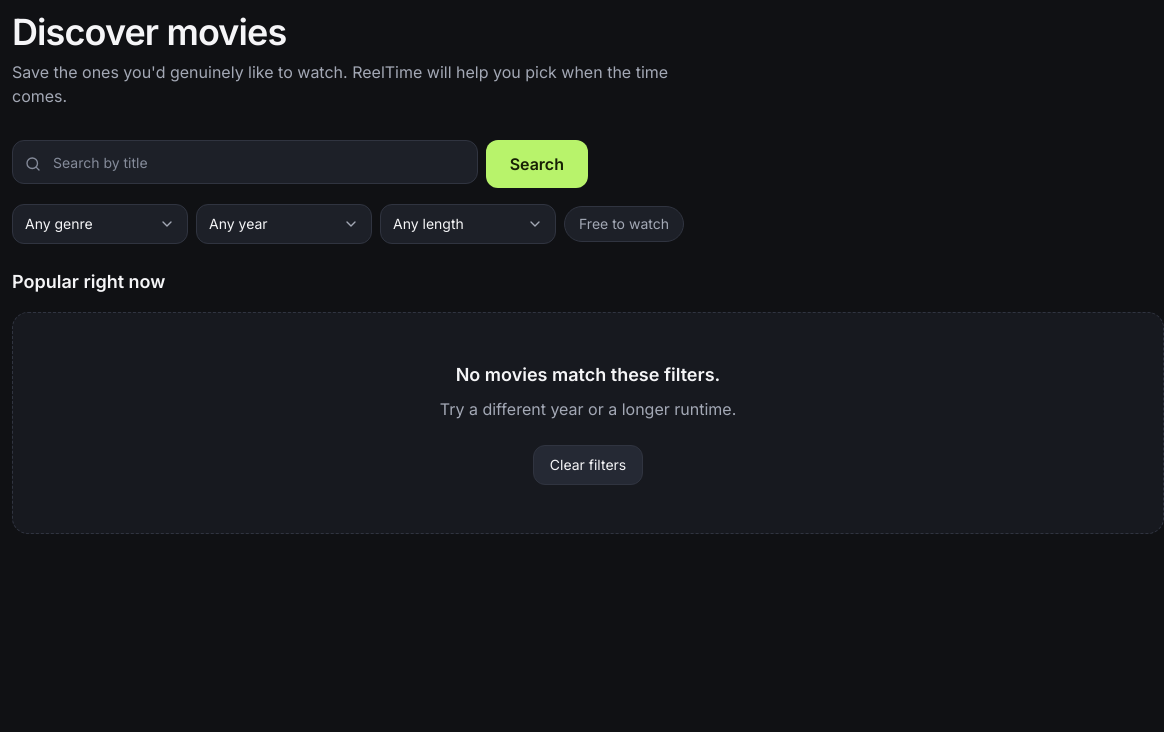
browses popular movies until a filter is chosen, then discovers with the filters
Select "Comedy" in the 1st dropdown named "Genre": point(100, 224) [12,204,188,244]
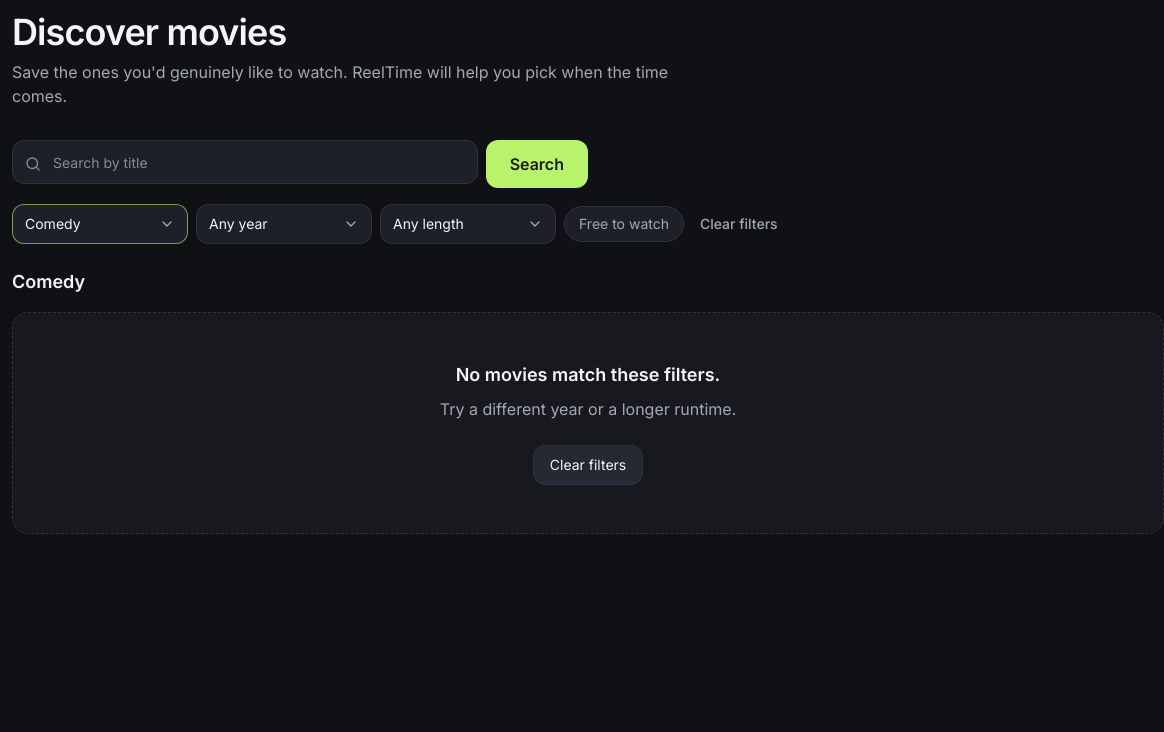
Select "Under 1h 30m" in the 3rd dropdown named "Maximum runtime": point(468, 224) [380,204,556,244]
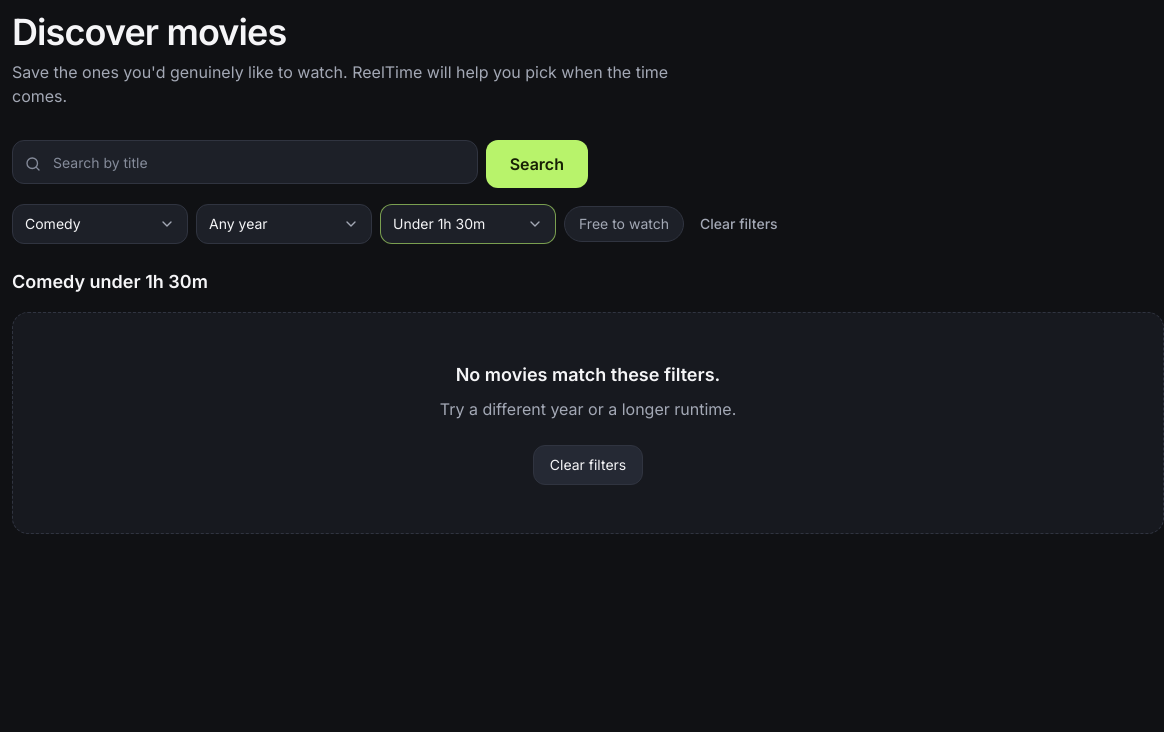
Expected: the heading "No movies match these filters." is shown, [456,361,720,389]
Now the heading "Comedy under 1h 30m" is shown, box [12,271,208,292]
